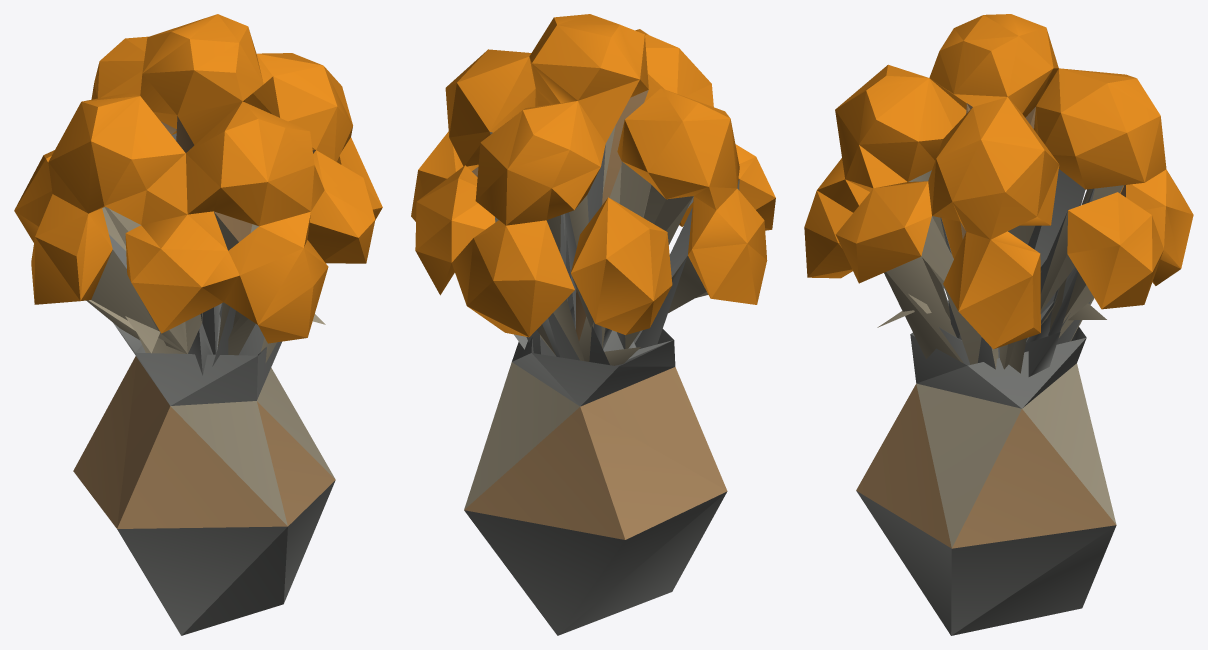
Rendered from marigold_vase.glb.
3 views of the same model, side by side, from view 1: azimuth 30°, elevation 25°; view 2: azimuth 150°, elevation 25°; view 3: azimuth 270°, elevation 25° (orthographic).
Parts seen in each view (by area): view 1: Mesh_0; view 2: Mesh_0; view 3: Mesh_0.
Boxes of the visible parts, x1,y1,x2,y2 form: Mesh_0: (14, 14, 382, 635); Mesh_0: (411, 14, 775, 635); Mesh_0: (804, 14, 1193, 635).
Bounding box in the file's own units: 0.3 × 0.5 × 0.3.
